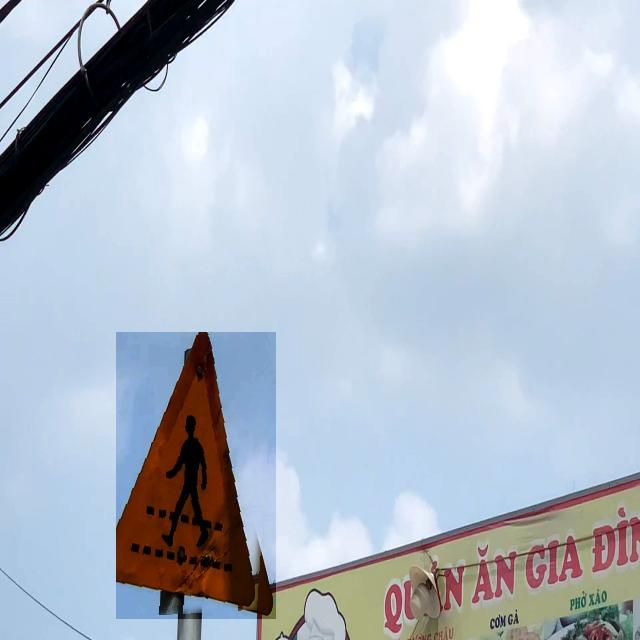W-224: (116, 332, 276, 619)
